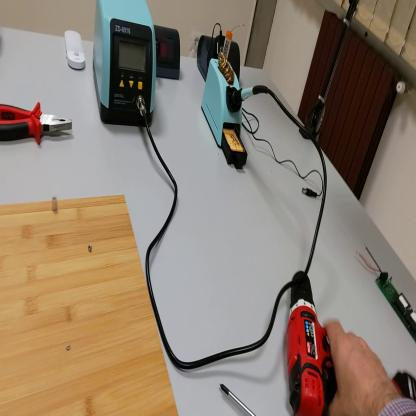electric screwdriver: (286, 272, 405, 416)
hand: (324, 317, 395, 415)
high voltage board: (357, 240, 416, 342)
pliers: (2, 101, 73, 150)
screwdriver-: (220, 384, 256, 415)
socket: (196, 35, 241, 82), (156, 23, 181, 80)
welder base: (203, 24, 249, 172)
welder station: (93, 2, 157, 130)
working area: (2, 196, 179, 416)
